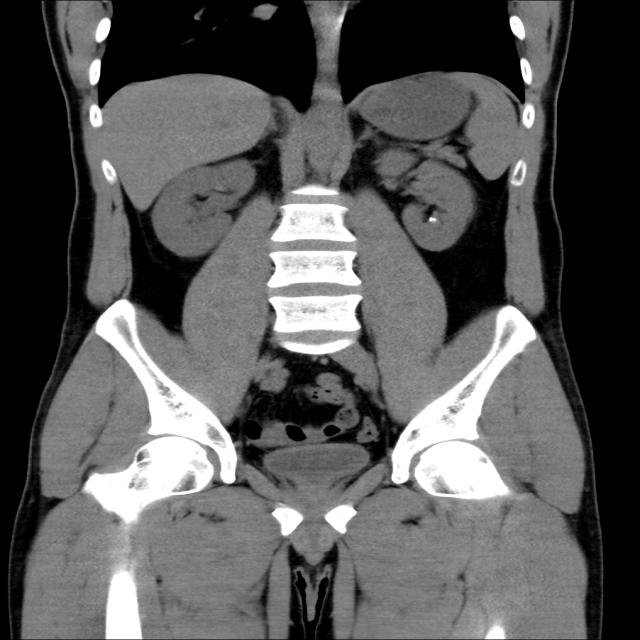kidneystone: (426, 216, 438, 222)
